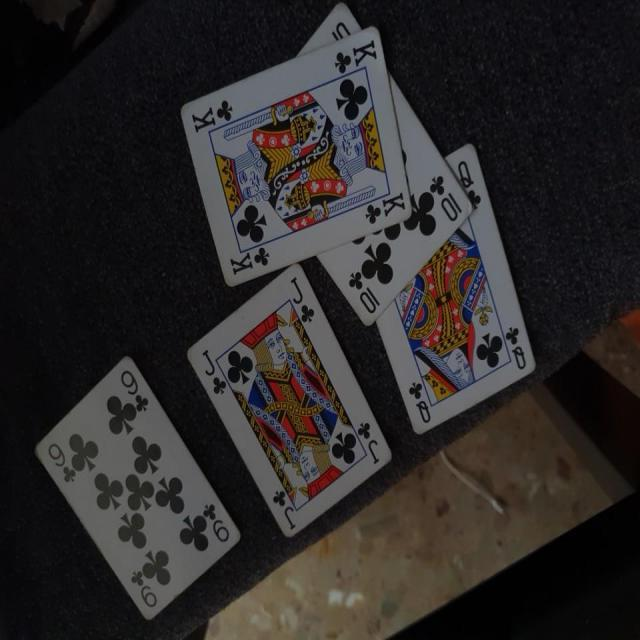10 of clubs: (296, 3, 472, 328)
9 of clubs: (34, 354, 242, 622)
jack of clubs: (184, 259, 393, 542)
king of clubs: (180, 27, 413, 289)
queen of clubs: (376, 143, 537, 439)
